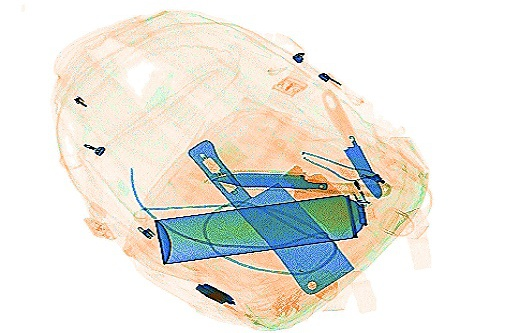knife: (186, 136, 353, 296), (319, 85, 382, 199), (202, 166, 392, 198), (194, 278, 237, 306)
lighter: (334, 154, 375, 222)
pressure: (151, 193, 377, 265)
